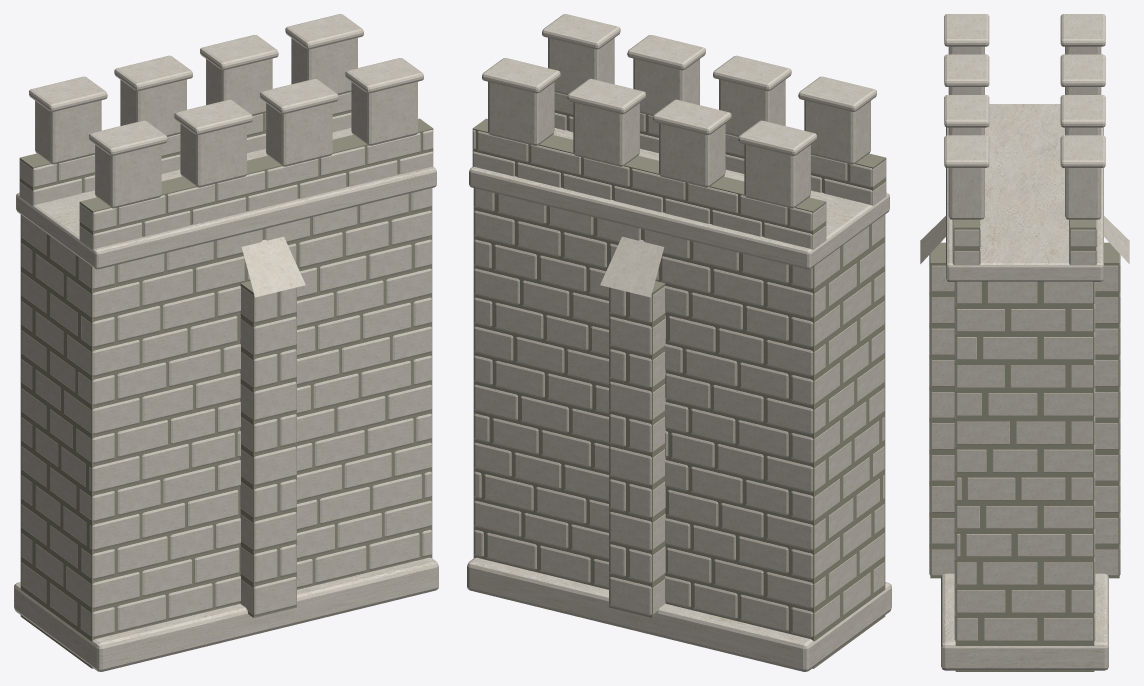
File: wall_long.glb
The picture shows the model from 3 angles, left to right: view 1: azimuth 30°, elevation 25°; view 2: azimuth 150°, elevation 25°; view 3: azimuth 270°, elevation 25°; orthographic projection. The views are drawn at different scales.
Visible parts, largest first — view 1: Hand-cut curtain masonry, Hand-cut curtain masonry core, Battlement merlons, Parapet masonry, Wall buttress, Weathered coping, Battered wall plinth, Continuous wall walk, Parapet masonry core, Wall buttress core, Buttress sloped shoulder; view 2: Hand-cut curtain masonry, Hand-cut curtain masonry core, Battlement merlons, Parapet masonry, Wall buttress, Weathered coping, Battered wall plinth, Continuous wall walk, Parapet masonry core, Wall buttress core, Buttress sloped shoulder; view 3: Hand-cut curtain masonry, Hand-cut curtain masonry core, Continuous wall walk, Wall buttress, Weathered coping, Battered wall plinth, Battlement merlons, Wall buttress core, Parapet masonry, Buttress sloped shoulder, Parapet masonry core.
Part boxes in pixels (x1=…): Hand-cut curtain masonry: x1=21, y1=188, x2=431, y2=637; Hand-cut curtain masonry core: x1=20, y1=188, x2=432, y2=668; Battlement merlons: x1=35, y1=37, x2=417, y2=208; Parapet masonry: x1=20, y1=92, x2=433, y2=249; Wall buttress: x1=240, y1=286, x2=296, y2=615; Weathered coping: x1=29, y1=14, x2=423, y2=155; Battered wall plinth: x1=14, y1=557, x2=438, y2=671; Continuous wall walk: x1=16, y1=128, x2=436, y2=269; Parapet masonry core: x1=19, y1=110, x2=433, y2=249; Wall buttress core: x1=240, y1=281, x2=296, y2=617; Buttress sloped shoulder: x1=241, y1=236, x2=305, y2=297; Hand-cut curtain masonry: x1=474, y1=188, x2=884, y2=637; Hand-cut curtain masonry core: x1=473, y1=188, x2=885, y2=668; Battlement merlons: x1=488, y1=37, x2=870, y2=208; Parapet masonry: x1=472, y1=92, x2=885, y2=249; Wall buttress: x1=609, y1=286, x2=665, y2=615; Weathered coping: x1=482, y1=14, x2=876, y2=155; Battered wall plinth: x1=467, y1=557, x2=891, y2=671; Continuous wall walk: x1=469, y1=128, x2=889, y2=269; Parapet masonry core: x1=472, y1=110, x2=886, y2=249; Wall buttress core: x1=609, y1=281, x2=665, y2=617; Buttress sloped shoulder: x1=600, y1=236, x2=664, y2=297; Hand-cut curtain masonry: x1=954, y1=281, x2=1095, y2=640; Hand-cut curtain masonry core: x1=955, y1=282, x2=1094, y2=671; Continuous wall walk: x1=946, y1=104, x2=1103, y2=281; Wall buttress: x1=929, y1=254, x2=1120, y2=575; Weathered coping: x1=944, y1=14, x2=1105, y2=167; Battered wall plinth: x1=941, y1=573, x2=1108, y2=670; Battlement merlons: x1=948, y1=46, x2=1101, y2=219; Wall buttress core: x1=930, y1=242, x2=1119, y2=578; Parapet masonry: x1=952, y1=219, x2=1097, y2=265; Buttress sloped shoulder: x1=920, y1=216, x2=1129, y2=263; Parapet masonry core: x1=953, y1=219, x2=1096, y2=264.
Size of the model in its own units: 2.96 by 4.3 by 1.62.
4 materials, 3 textured.
